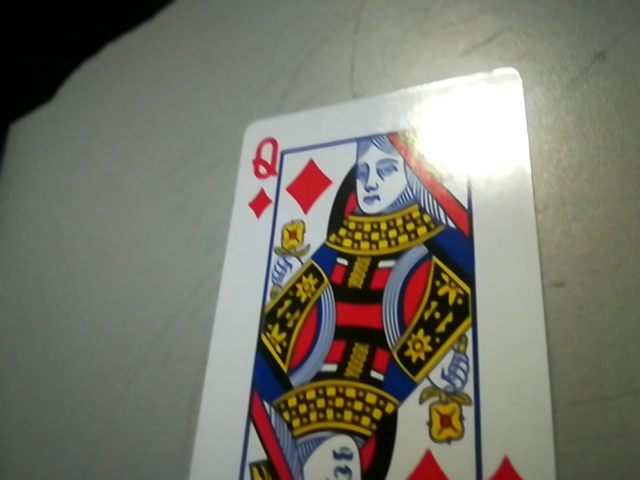fk q: (236, 129, 288, 220)
